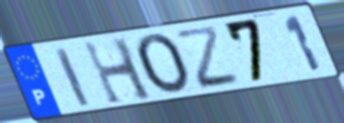1: (285, 13, 326, 72)
7: (220, 16, 268, 85)
H: (80, 35, 156, 107)
I: (52, 45, 94, 109)
O: (133, 32, 194, 97)
Z: (172, 23, 244, 92)
